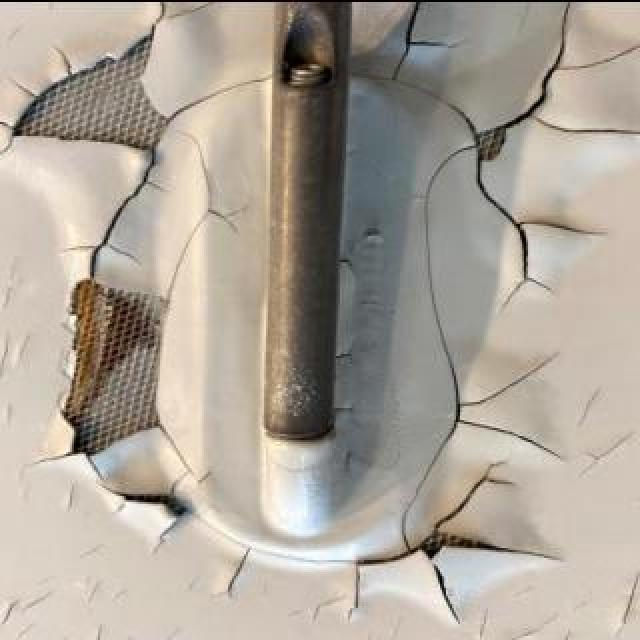crack: (398, 139, 574, 553), (470, 150, 616, 312), (499, 1, 640, 139), (53, 138, 177, 286), (159, 128, 255, 304), (420, 525, 572, 627), (1, 39, 127, 161), (192, 507, 360, 567), (346, 68, 484, 140), (16, 404, 110, 482), (95, 481, 193, 555), (341, 544, 425, 624), (432, 456, 520, 528), (392, 1, 474, 75), (168, 69, 276, 121), (152, 420, 220, 498), (141, 1, 229, 39), (209, 540, 257, 604)
